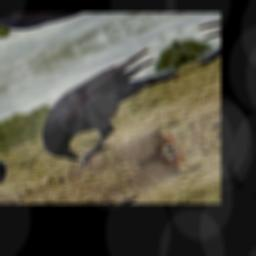Crow: (21, 40, 206, 180)
